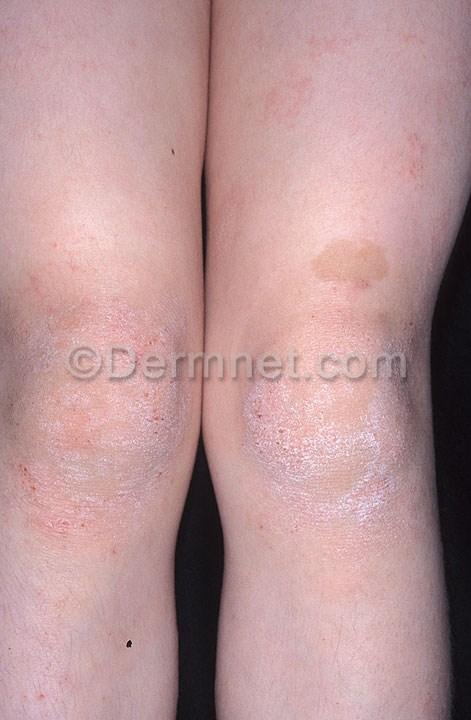xerosis 1: (29, 297, 196, 554), (241, 329, 400, 558)
